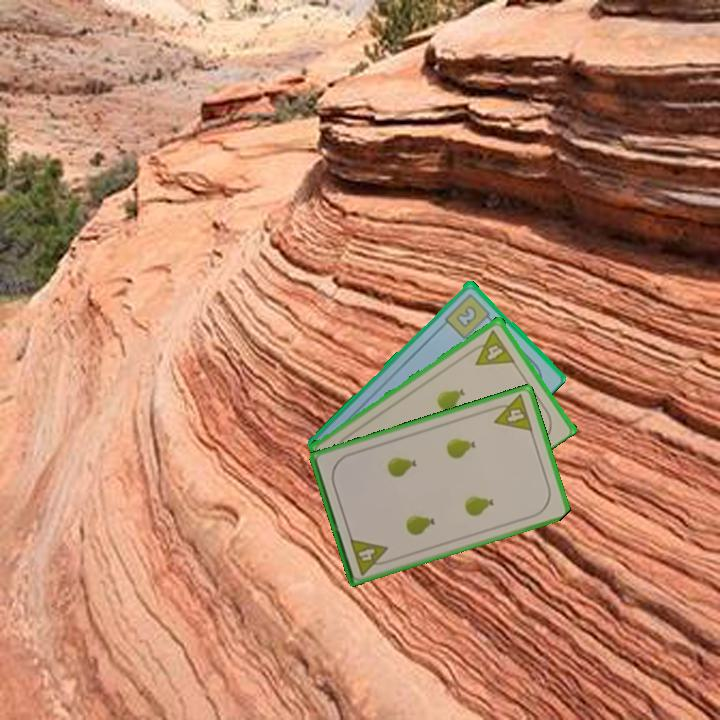2b: (441, 289, 496, 341)
4p: (465, 326, 517, 368), (346, 534, 394, 578), (487, 391, 536, 434)
